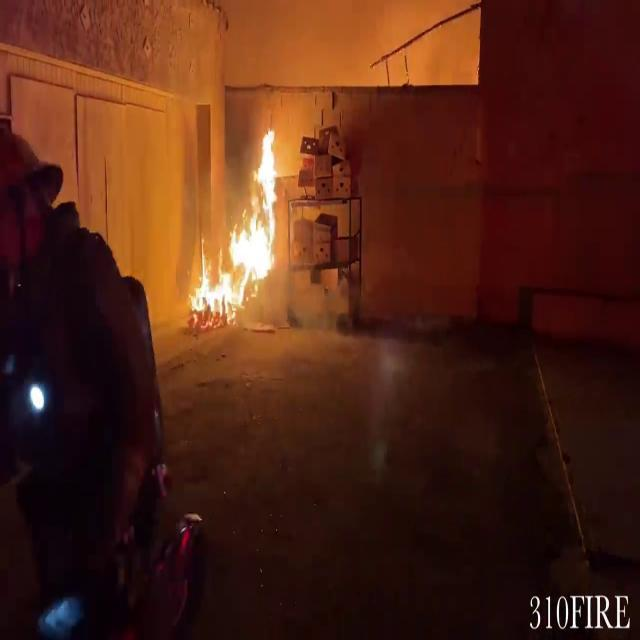Fire: (188, 117, 286, 323)
